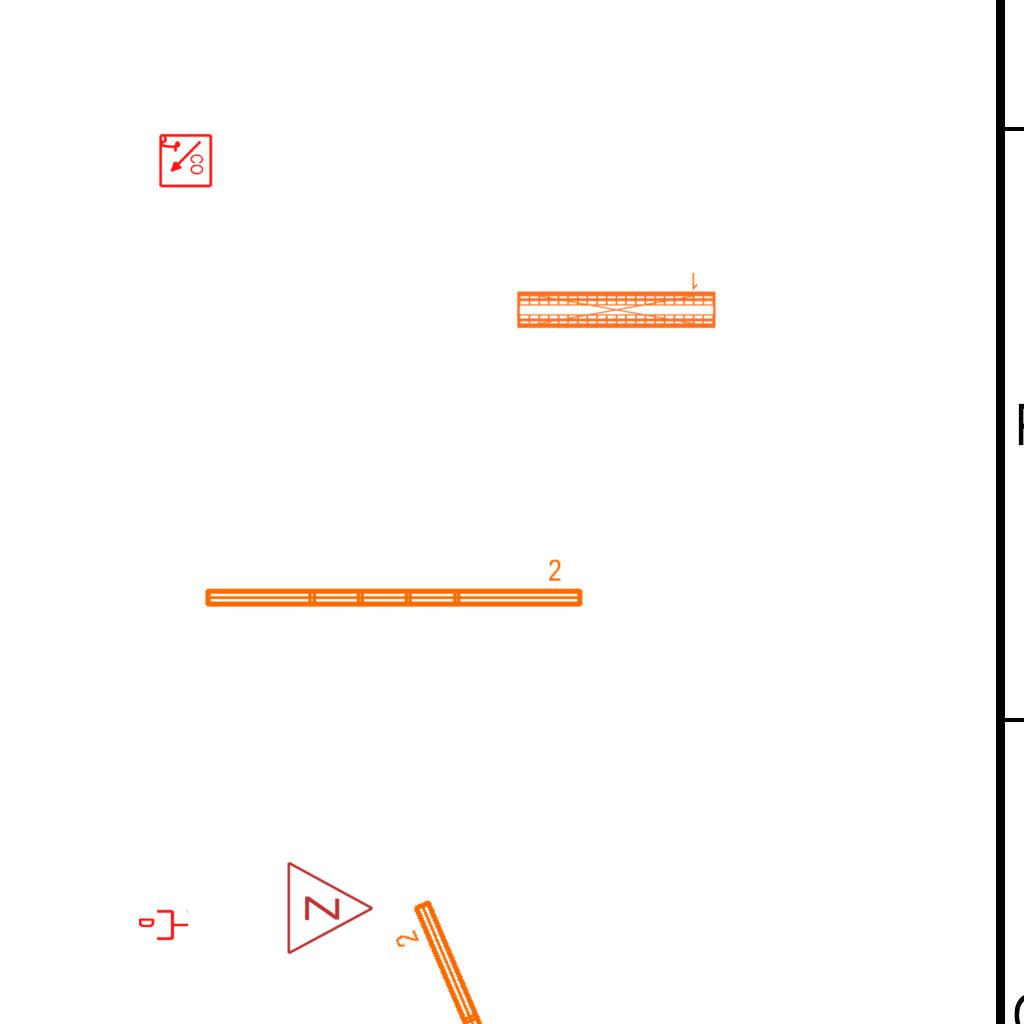Ambulanz_Pendelleuchte_LED: (382, 892, 585, 1024), (200, 557, 587, 613)
Buero_Pendelleuchten_LED: (513, 268, 719, 333)
Datenanschluss_einfach: (139, 908, 189, 942)
ROA_Rauchmelder_optisch_mit_Signalgeber_(Sockelsirene): (157, 133, 213, 189)
Zimmersignalleuchte: (280, 858, 380, 956)
